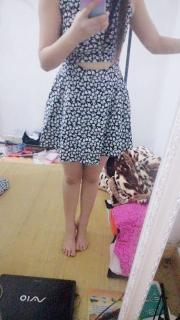vest: (39, 0, 133, 166)
